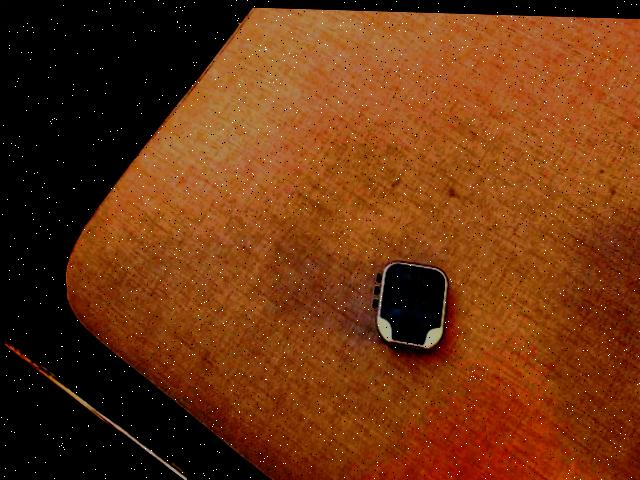adapter: (370, 257, 447, 348)
